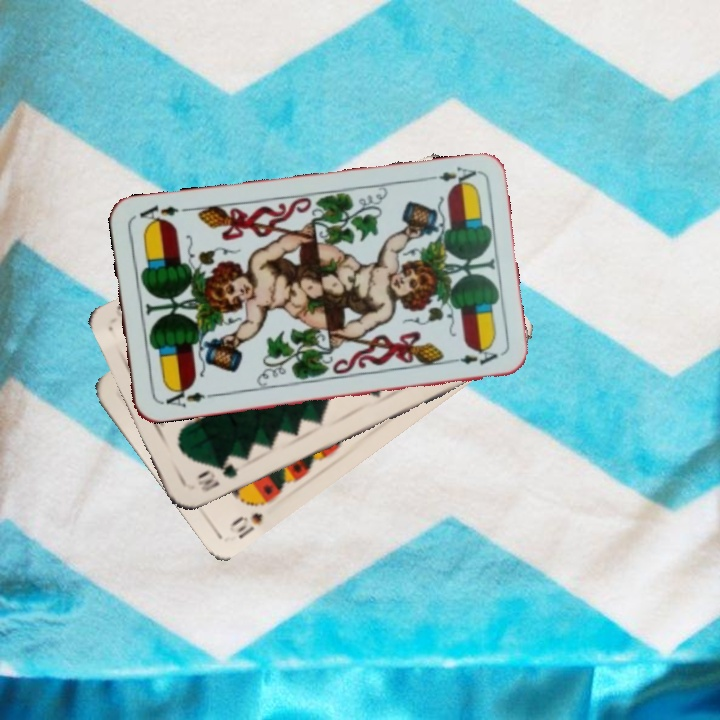EA: (156, 382, 216, 411), (421, 163, 479, 190)
G10: (193, 459, 242, 495)
S10: (225, 508, 265, 542)
